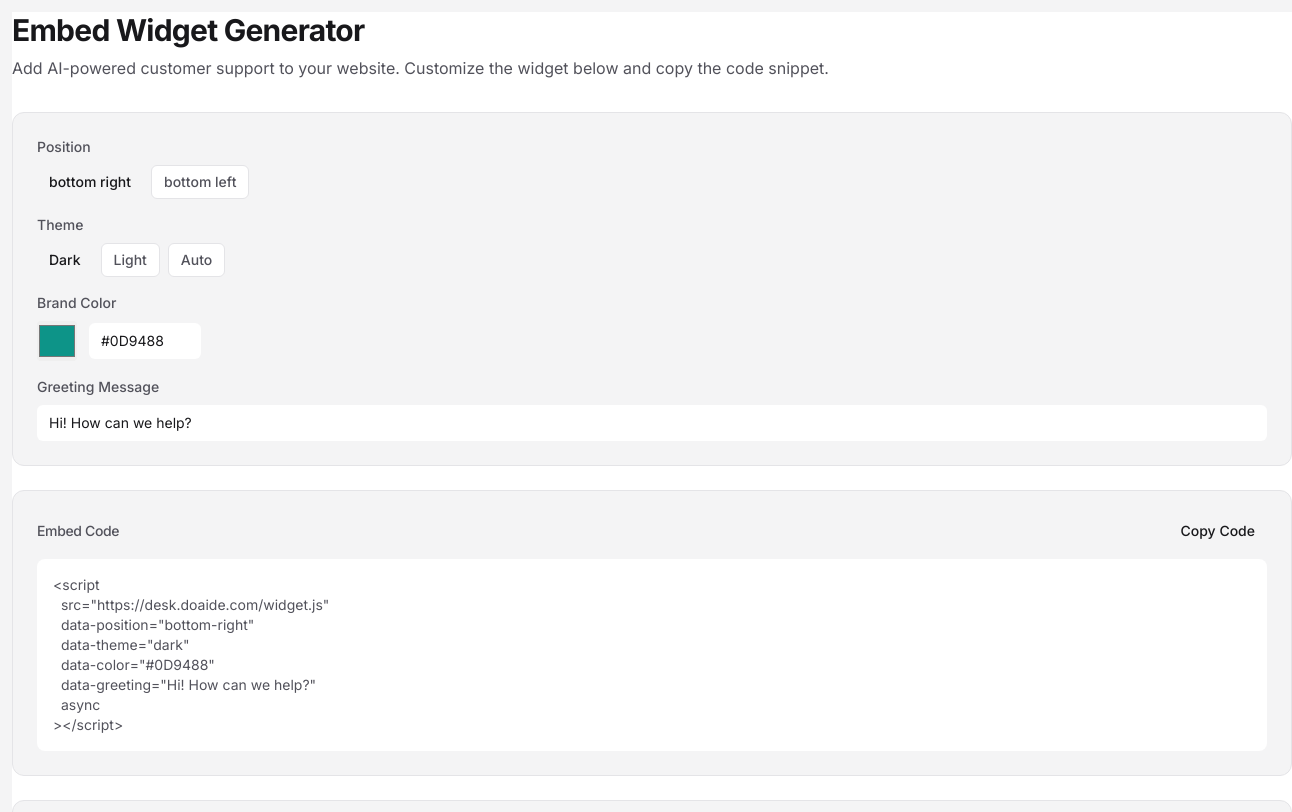
Scenario: EmbedGenerator › copies embed code to clipboard
Click the button "Copy Code". click: [1218, 531]
box: x1=1168 y1=515 x2=1267 y2=547
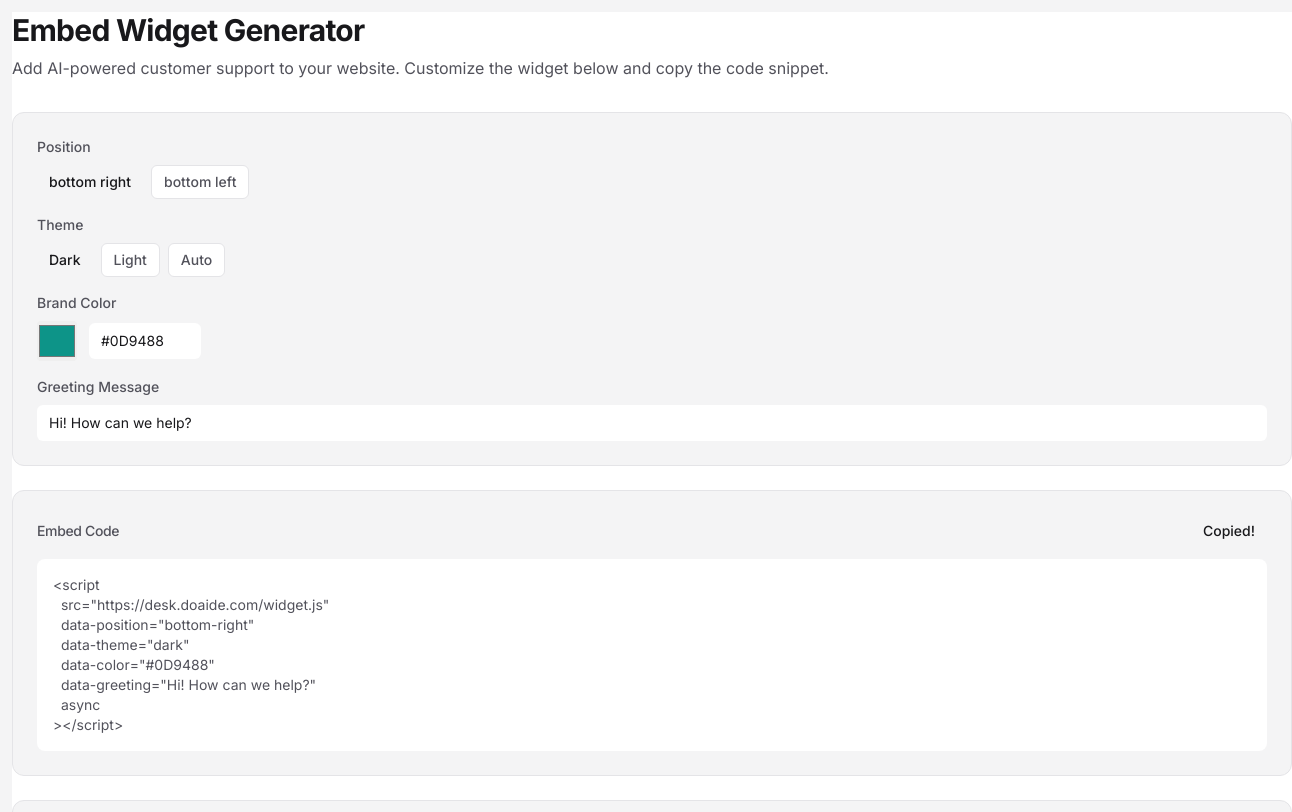
Expected: the button "Copied!" is shown, x1=1191 y1=515 x2=1267 y2=547
